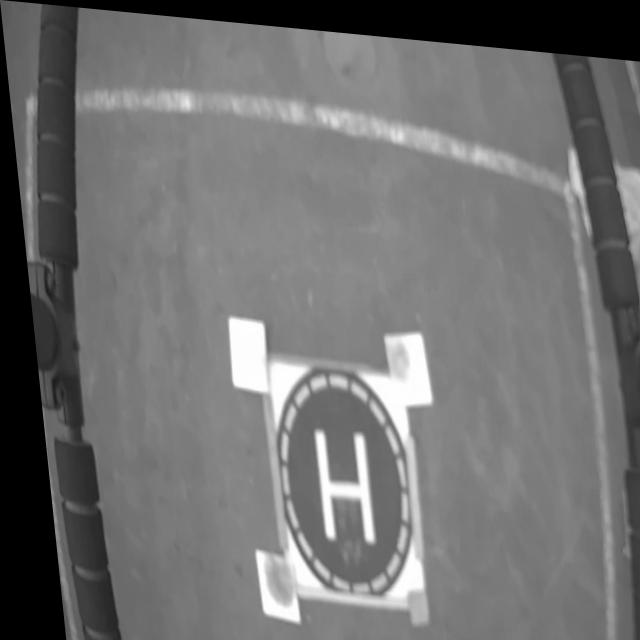Helipad: (307, 426, 364, 536)
